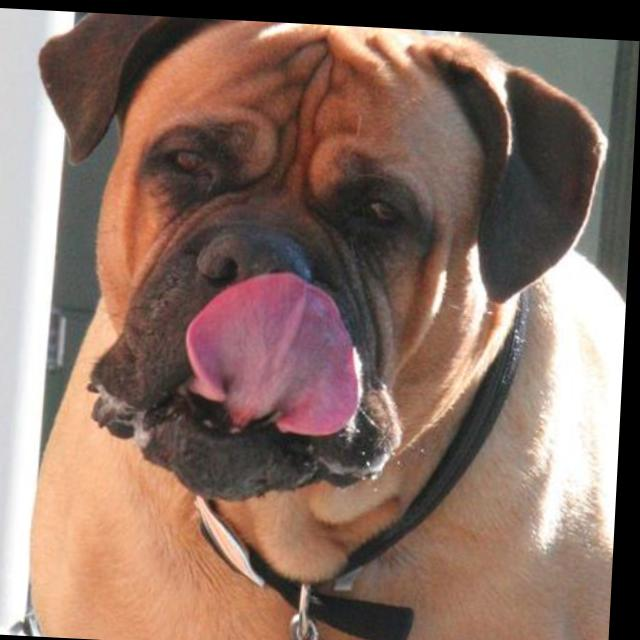bullmastiff: (15, 10, 640, 640)
